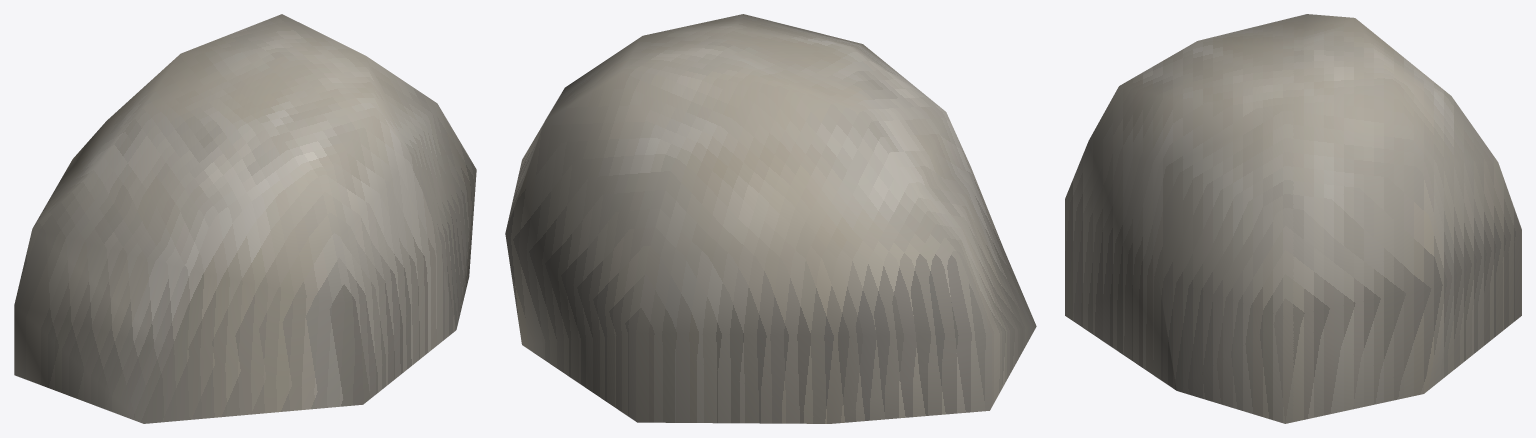
Rendered from stone1.fbx.
3 views of the same model, side by side, from view 1: azimuth 30°, elevation 25°; view 2: azimuth 150°, elevation 25°; view 3: azimuth 270°, elevation 25° (orthographic). The views are drawn at different scales.
Visible parts, largest first — view 1: stone1; view 2: stone1; view 3: stone1.
Boxes of the visible parts, left/top/right/bottom form: stone1: left=14, top=14, right=476, bottom=423; stone1: left=505, top=14, right=1036, bottom=423; stone1: left=1065, top=14, right=1521, bottom=423.
Bounding box in the file's own units: 3.21 × 1.84 × 2.71.
